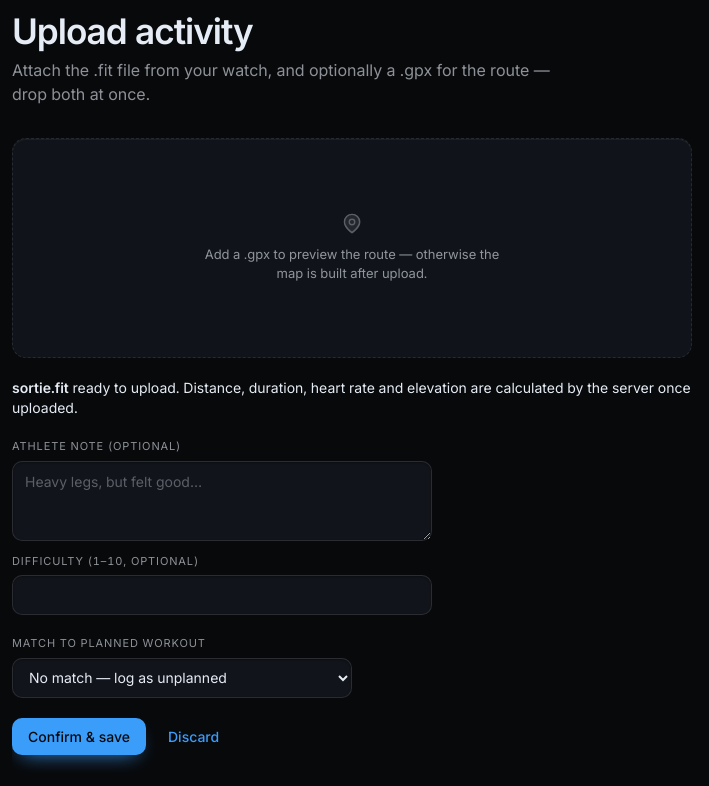
Test case: UploadView — envoi › garde un message générique si l’API ne renvoie pas de JSON
The width and height of the screenshot is (709, 786).
Earlier steps of the test are not shown.
Click the button "Confirm & save" at (79, 736), box [12,718,146,755]
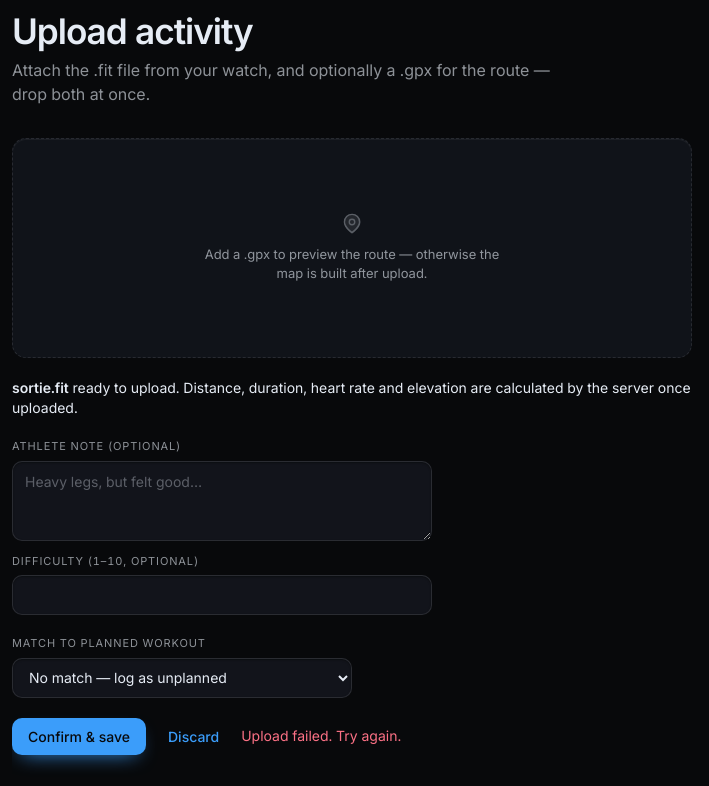
Expected: the text "Upload failed. Try again." is shown, [241,726,401,746]
